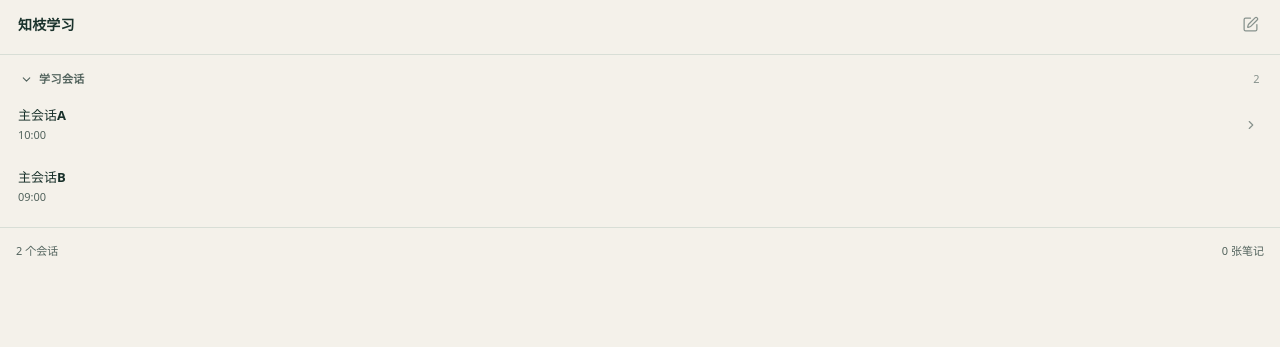
it: ThreadList 分支展开 › 点击子分支箭头展开嵌套分支
This screenshot has width=1280, height=347.
Click the button with class "thread-list__item-toggle". click: (1251, 125)
box: [1240,114,1262,136]
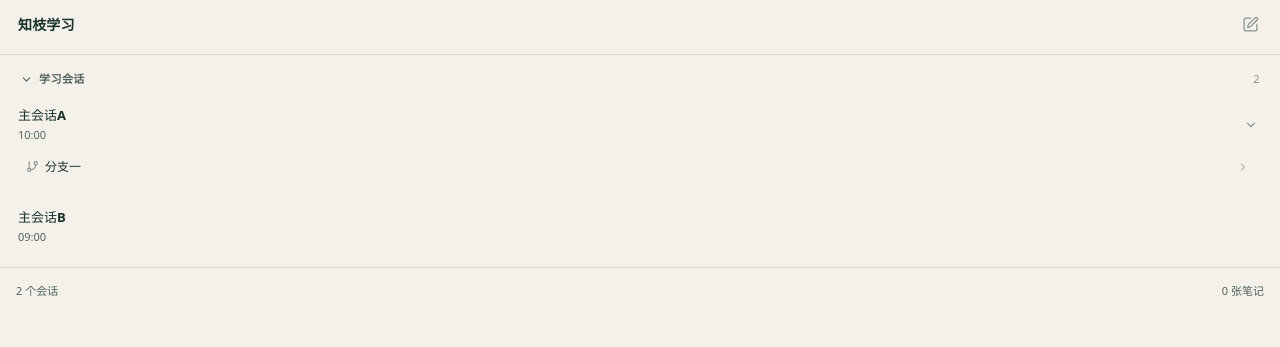
Click the button with class "thread-branch__toggle". click: (1243, 166)
box: [1234,158,1252,176]
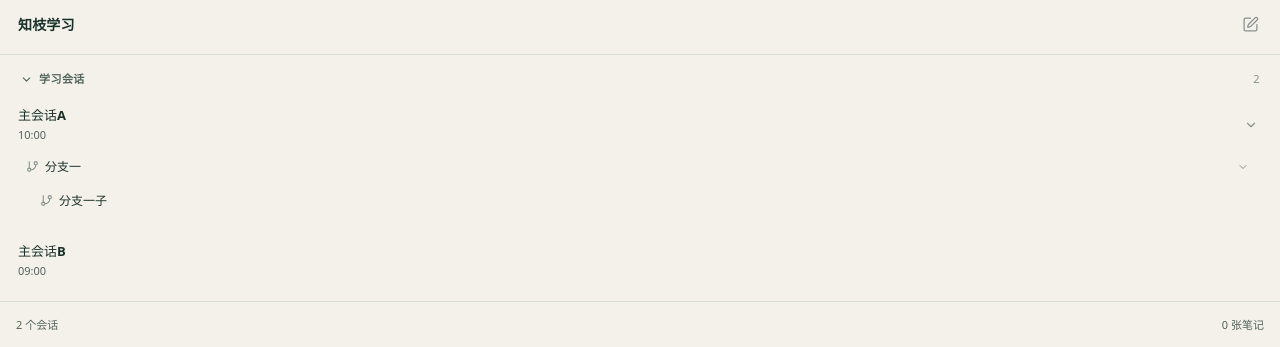
Now the text "分支一子" is shown, box [59,192,107,208]
